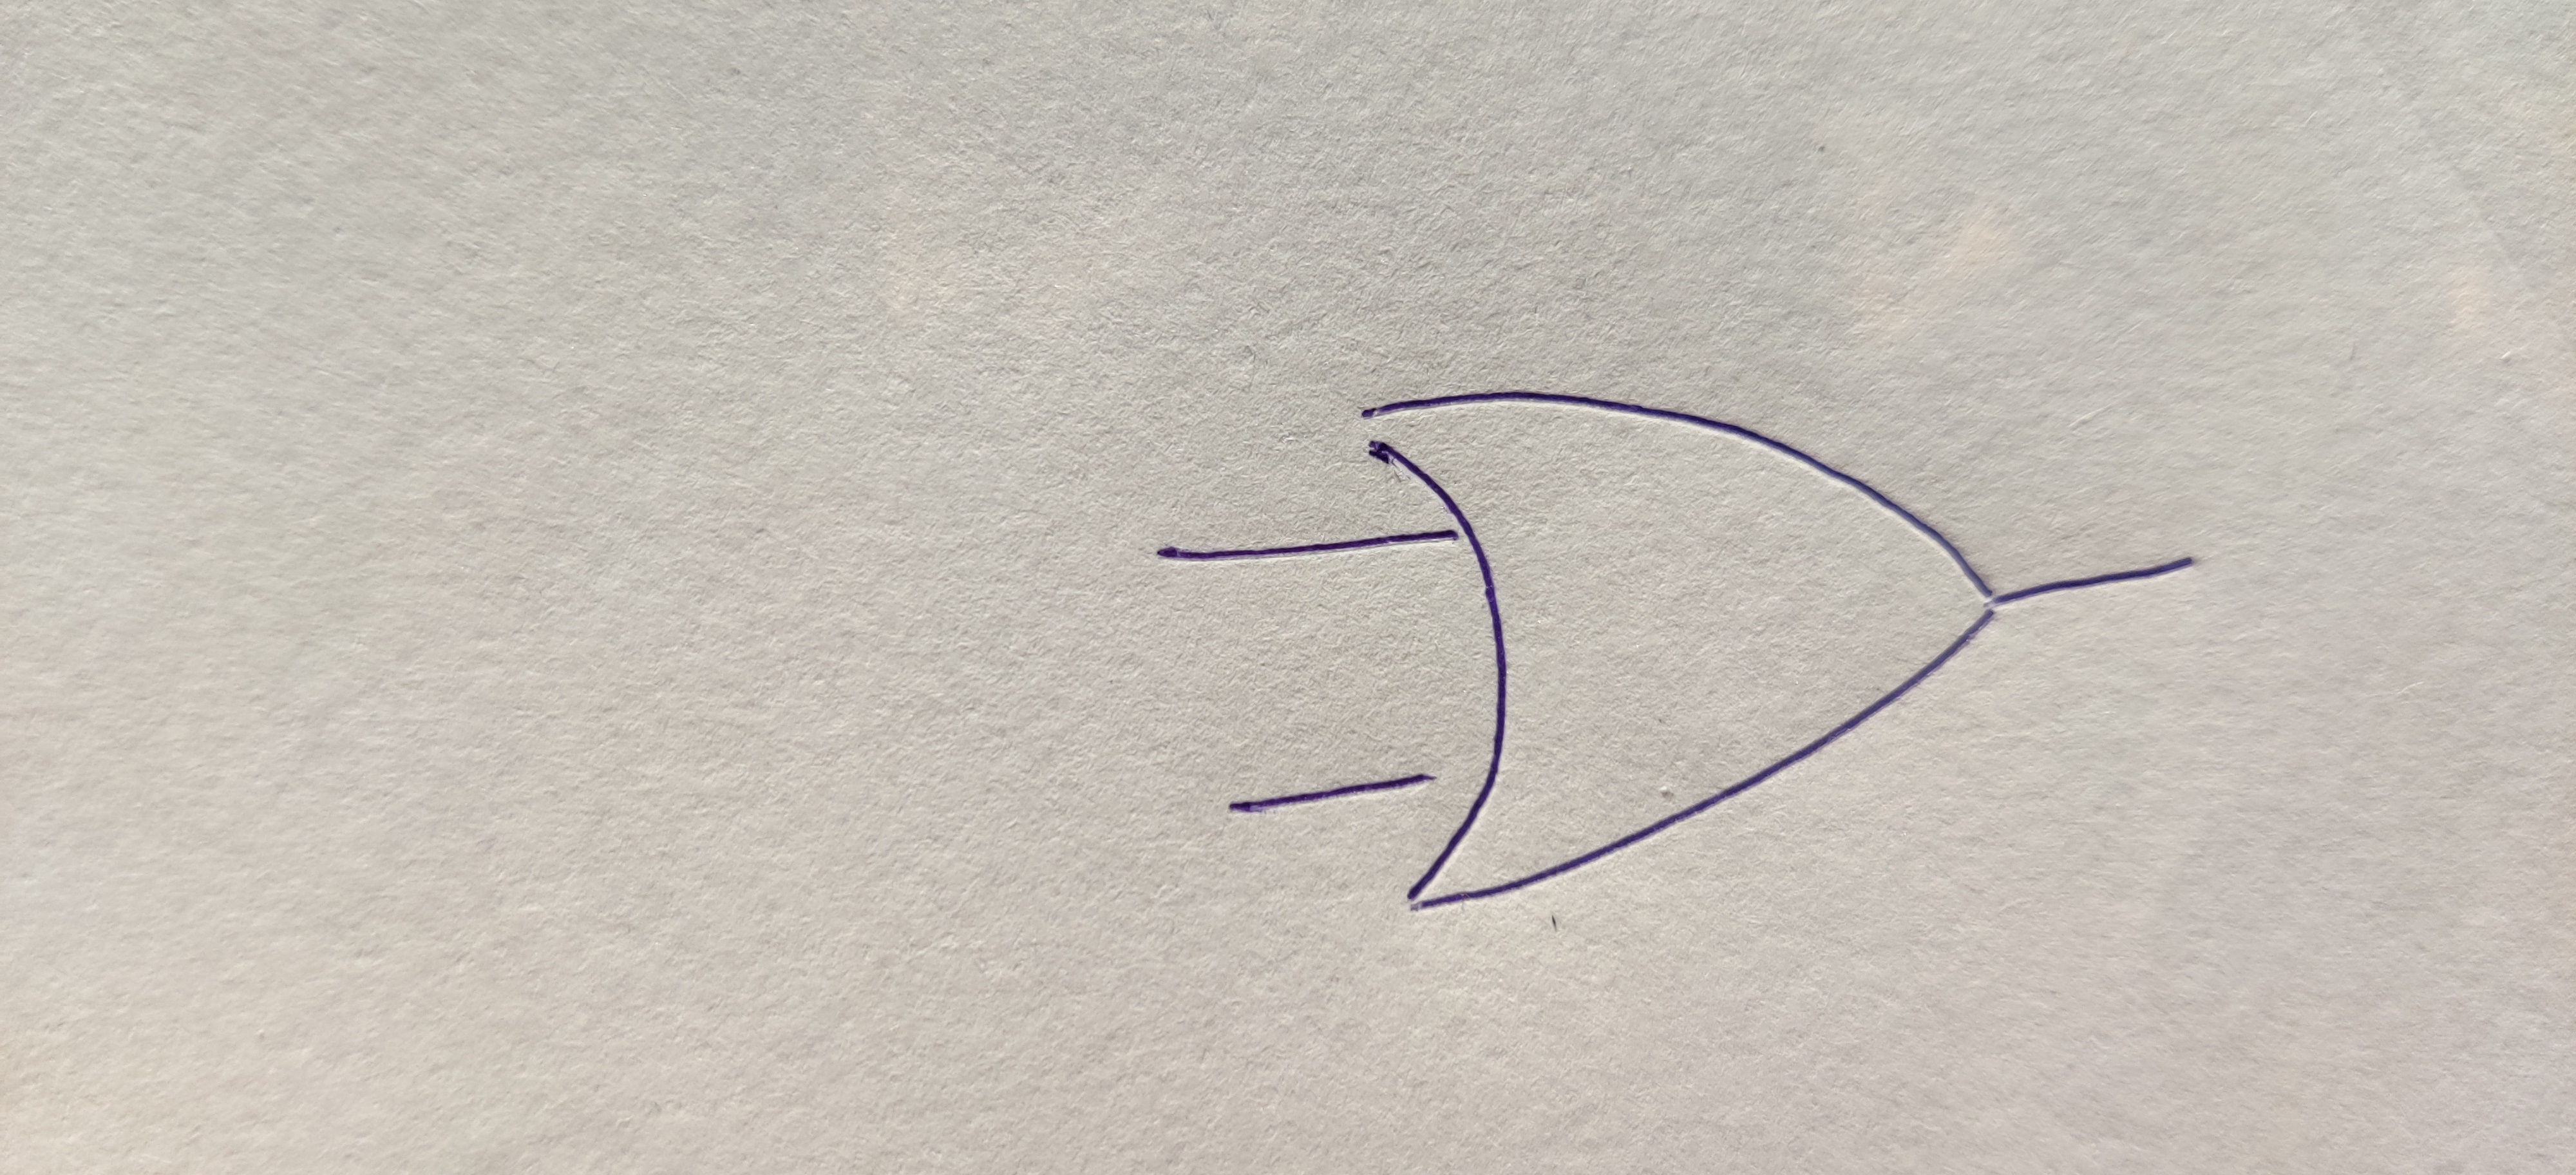or: (1364, 396, 1994, 907)
